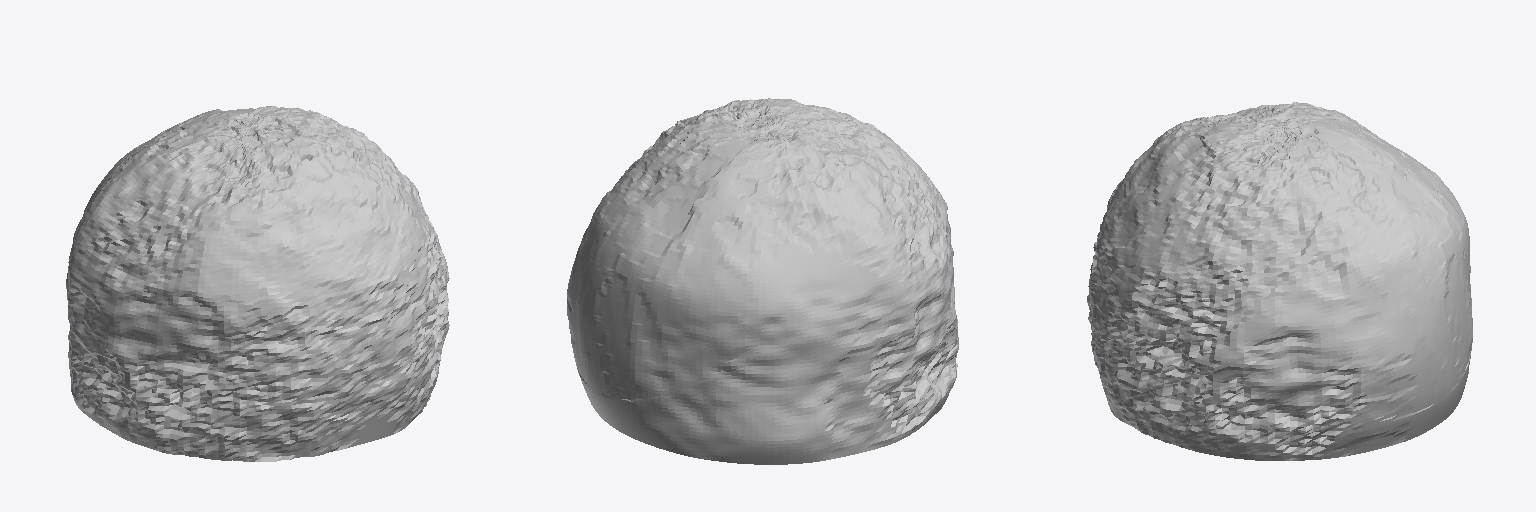
The model's file is dome.obj.
3 renders of one model, left to right at view 1: azimuth 30°, elevation 25°; view 2: azimuth 150°, elevation 25°; view 3: azimuth 270°, elevation 25°, orthographic.
Visible parts, largest first — view 1: pSphere1; view 2: pSphere1; view 3: pSphere1.
Part boxes in pixels (x1,y1,x2,y2): pSphere1: (66, 106, 449, 461); pSphere1: (567, 98, 958, 464); pSphere1: (1087, 102, 1472, 460).
Bounding box in the file's own units: 28.04 × 20.87 × 27.93.